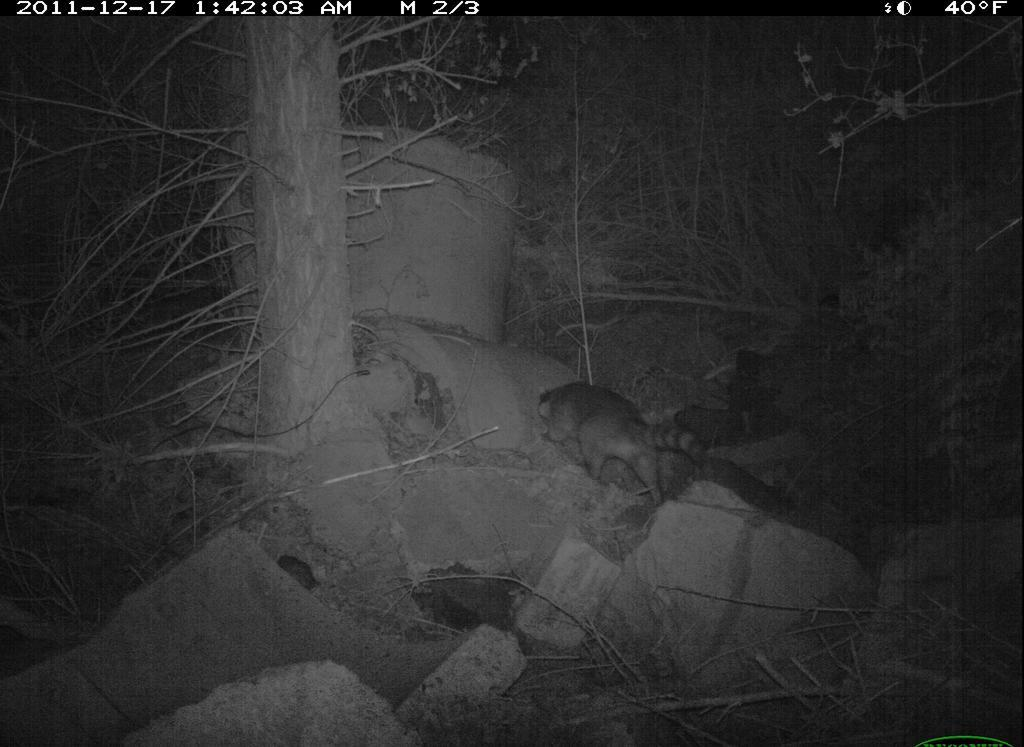raccoon: (523, 367, 749, 506)
